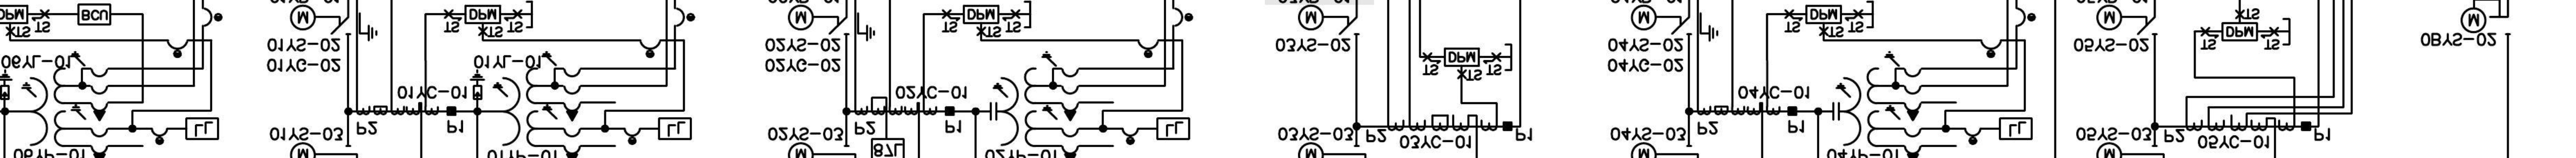115_1way_ds_w_motor: (1298, 5, 1387, 41), (2096, 5, 2159, 36)
115_3ways_ds_w_motor: (289, 3, 378, 41), (787, 3, 876, 41), (1630, 5, 1718, 41)
115_la: (470, 69, 486, 100)
BCU: (77, 3, 112, 26)
DPM: (463, 5, 501, 25), (1442, 48, 1480, 67), (2221, 21, 2259, 41), (963, 5, 999, 25), (1806, 5, 1842, 25)
LL: (1998, 117, 2034, 140), (186, 117, 220, 140), (657, 117, 692, 140), (1157, 117, 1191, 140)
